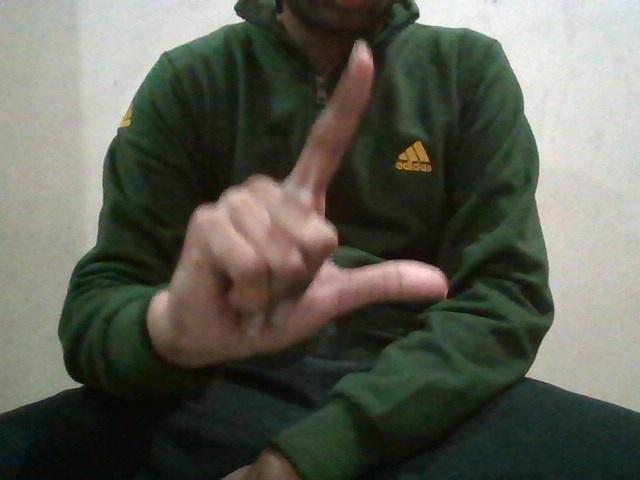L: (160, 41, 445, 350)
